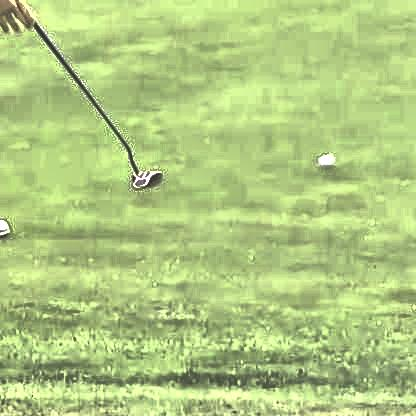golfball: (314, 150, 331, 168)
